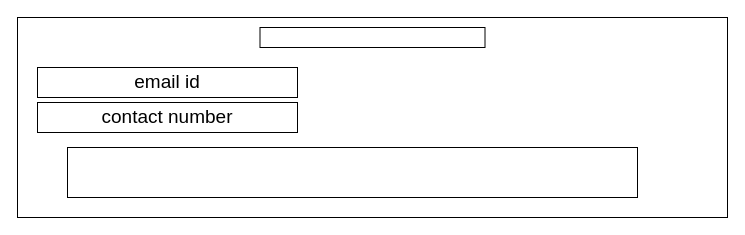
Some shapes in this 745 by 235 pixel diagram are drawn without their labels. Here are the shapes that lost their labels. From the top down, the box of each, then its label:
(259, 26, 485, 48): contact us
(66, 146, 638, 198): university name address
